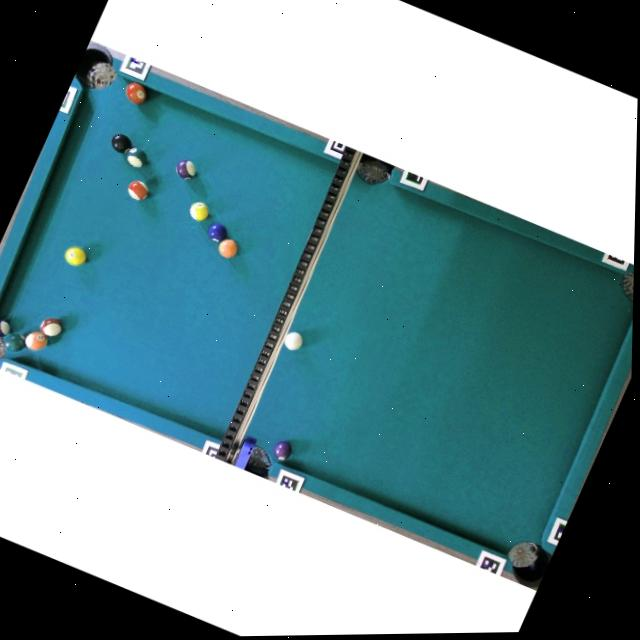cue ball: (281, 328, 306, 354)
other: (121, 79, 151, 108), (0, 328, 29, 355), (123, 177, 151, 204), (107, 130, 135, 156), (62, 243, 89, 269), (172, 156, 199, 182), (22, 328, 49, 354), (37, 314, 64, 340), (123, 144, 149, 170), (270, 437, 295, 463), (215, 235, 240, 261), (204, 220, 230, 244), (185, 199, 211, 223), (0, 314, 12, 342)
